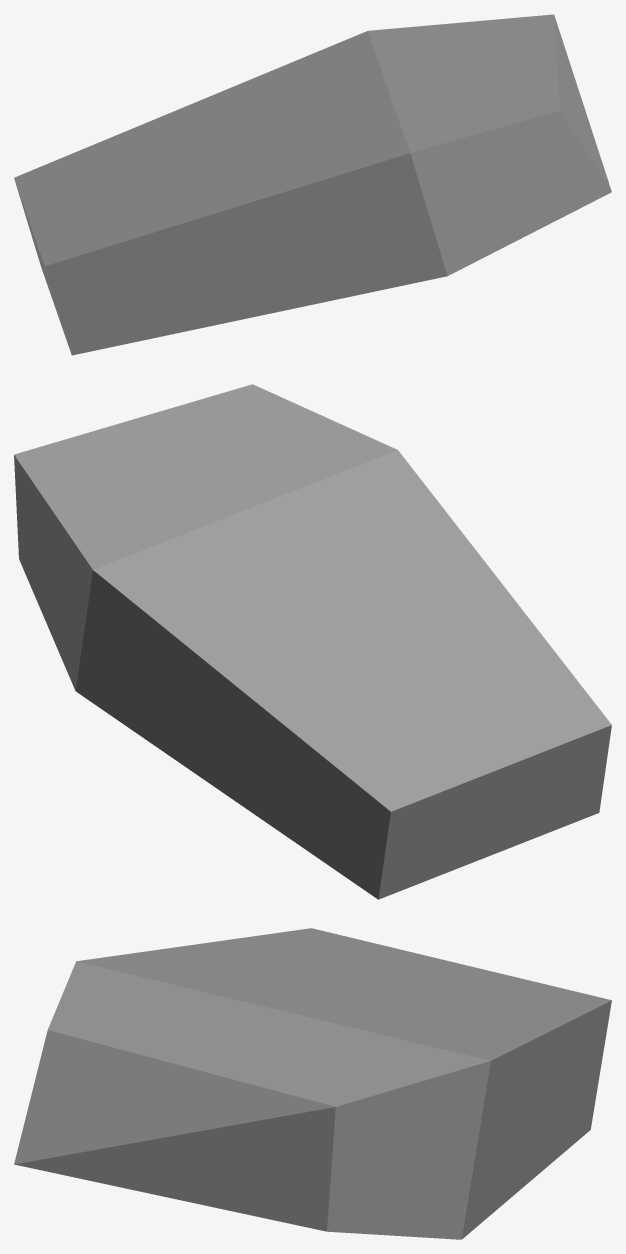
File: stone_6.fbx
3 renders of one model, top to bottom at view 1: azimuth 30°, elevation 25°; view 2: azimuth 150°, elevation 25°; view 3: azimuth 270°, elevation 25°, orthographic. The views are drawn at different scales.
Parts seen in each view (by area): view 1: stone_6; view 2: stone_6; view 3: stone_6.
Boxes of the visible parts, left/top/right/bottom form: stone_6: left=14, top=14, right=611, bottom=355; stone_6: left=14, top=384, right=611, bottom=899; stone_6: left=14, top=928, right=611, bottom=1239.
Size of the model in its own units: 160 by 67.31 by 120.
